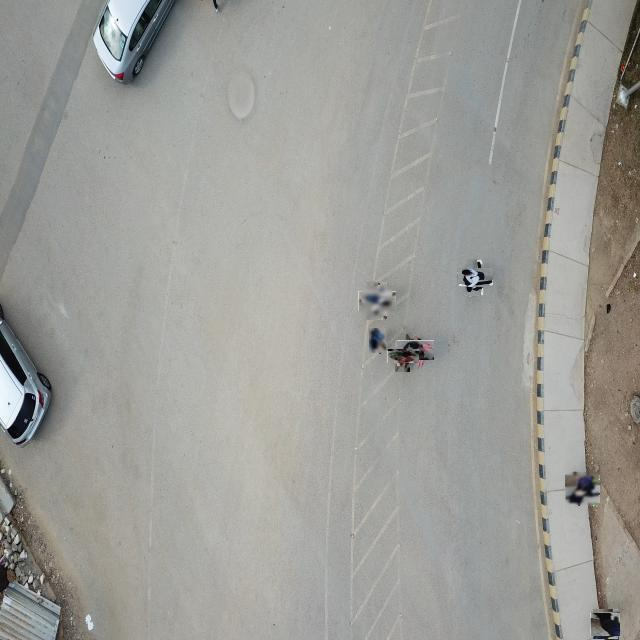Manusia: (566, 472, 600, 506), (362, 286, 393, 317), (460, 263, 490, 293), (402, 336, 431, 366), (592, 610, 620, 639), (391, 344, 416, 369), (369, 328, 387, 354)
